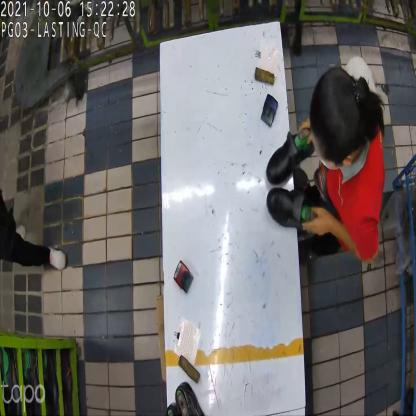shoes: (264, 129, 328, 236)
stamp: (258, 94, 278, 128), (175, 259, 194, 293)
